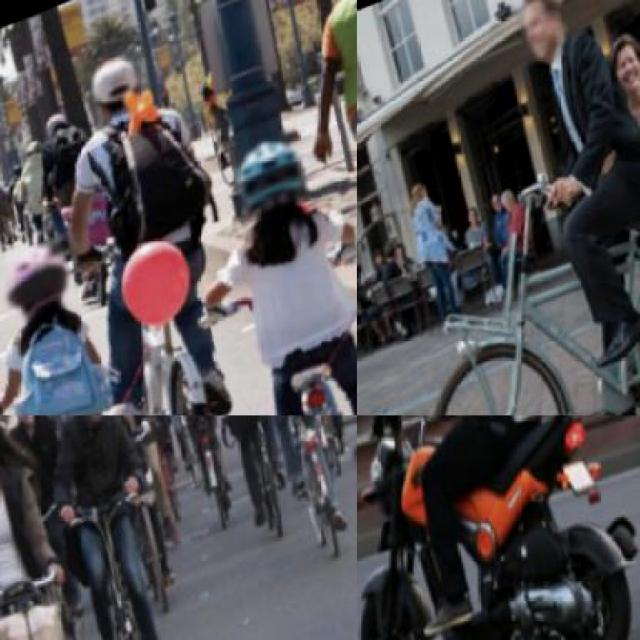With Helmet: (225, 131, 324, 238), (0, 235, 91, 337)
Without Helmet: (80, 51, 158, 132), (506, 0, 583, 77), (58, 416, 118, 442)
